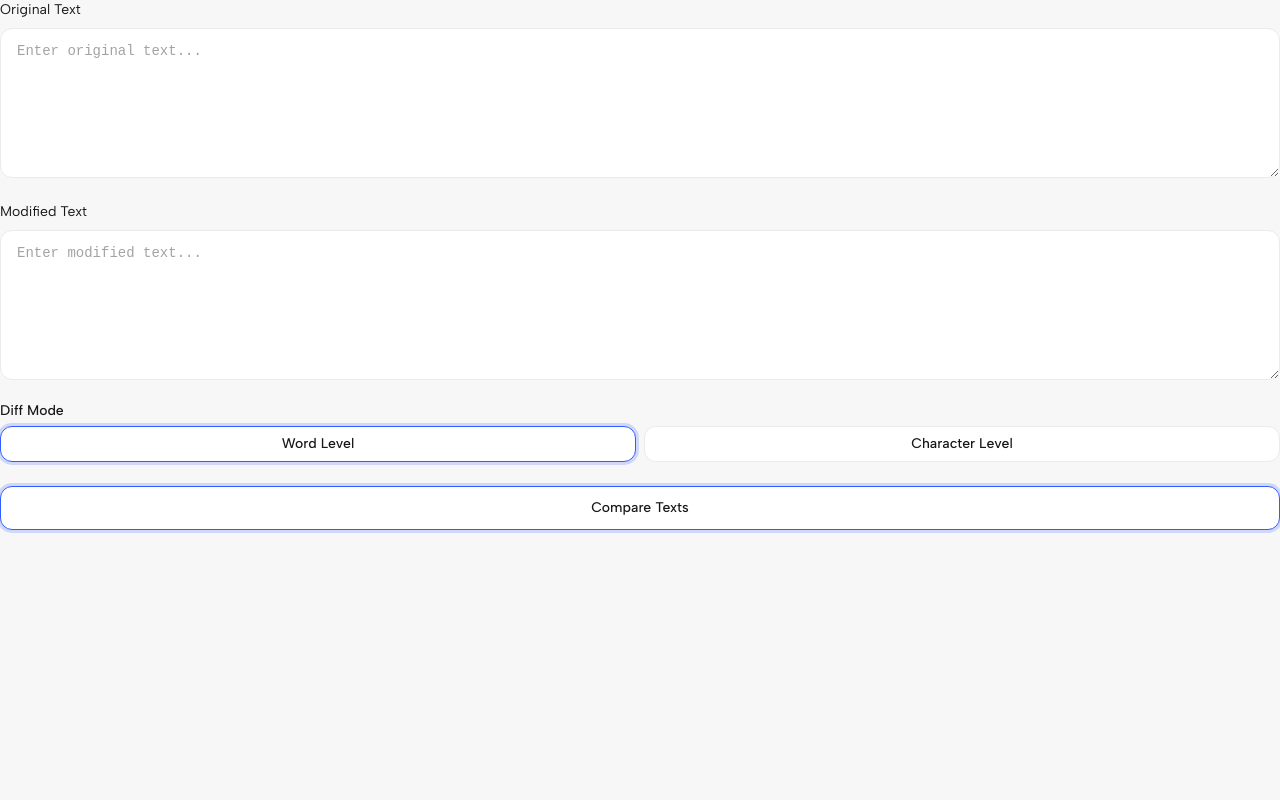
it: TextComparerTool › shows statistics after comparison
The image size is (1280, 800).
In the text box with placeholder "Enter original text...": (640, 103) [0, 28, 1279, 178], type "Hello"
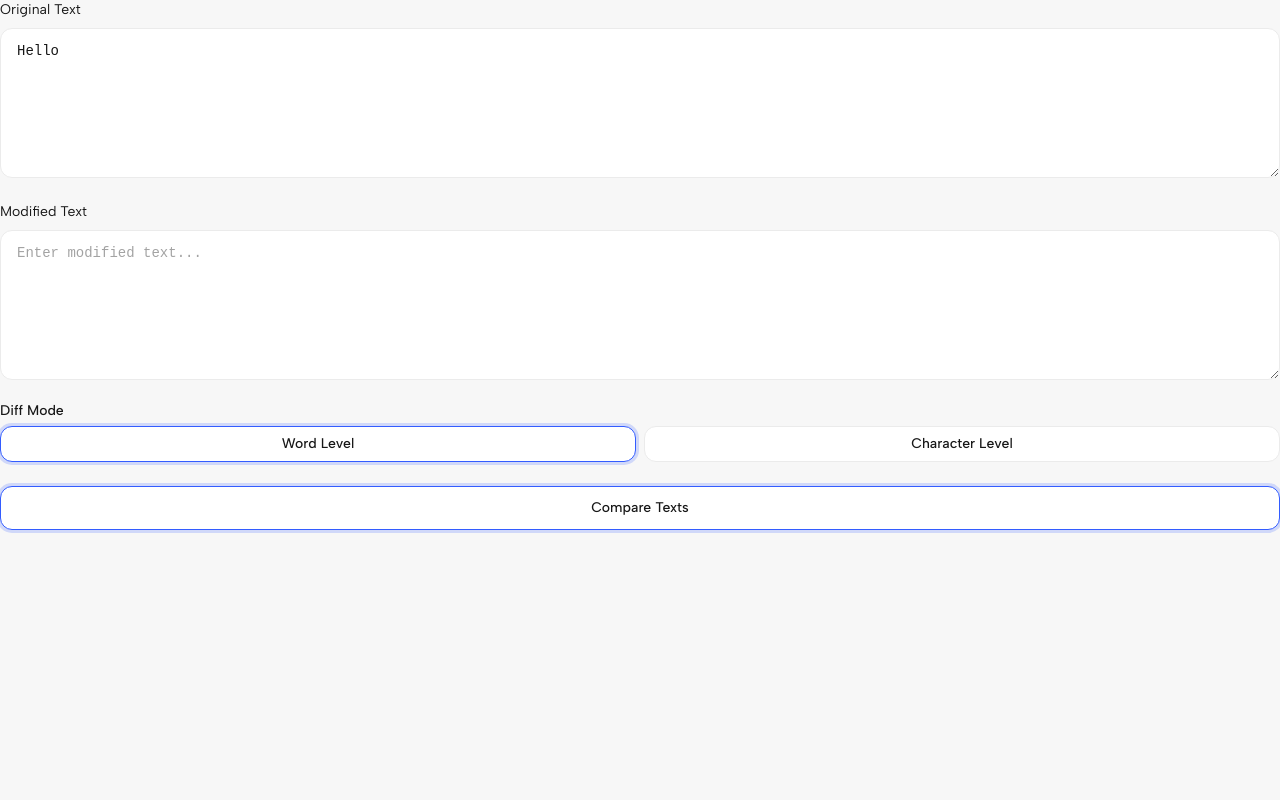
In the text box with placeholder "Enter modified text...": (640, 305) [0, 230, 1279, 380], type "Hello World"
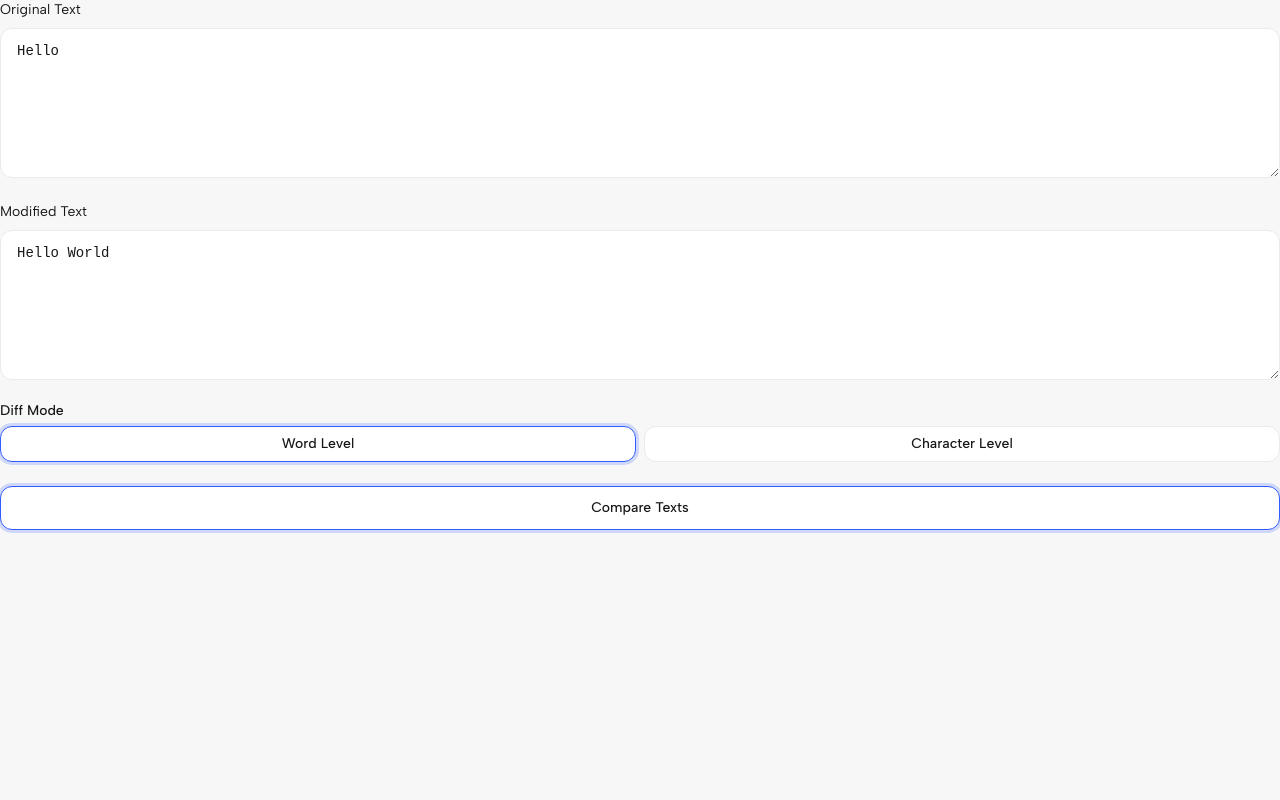
Click the button "Compare Texts": (640, 508) [0, 486, 1279, 530]
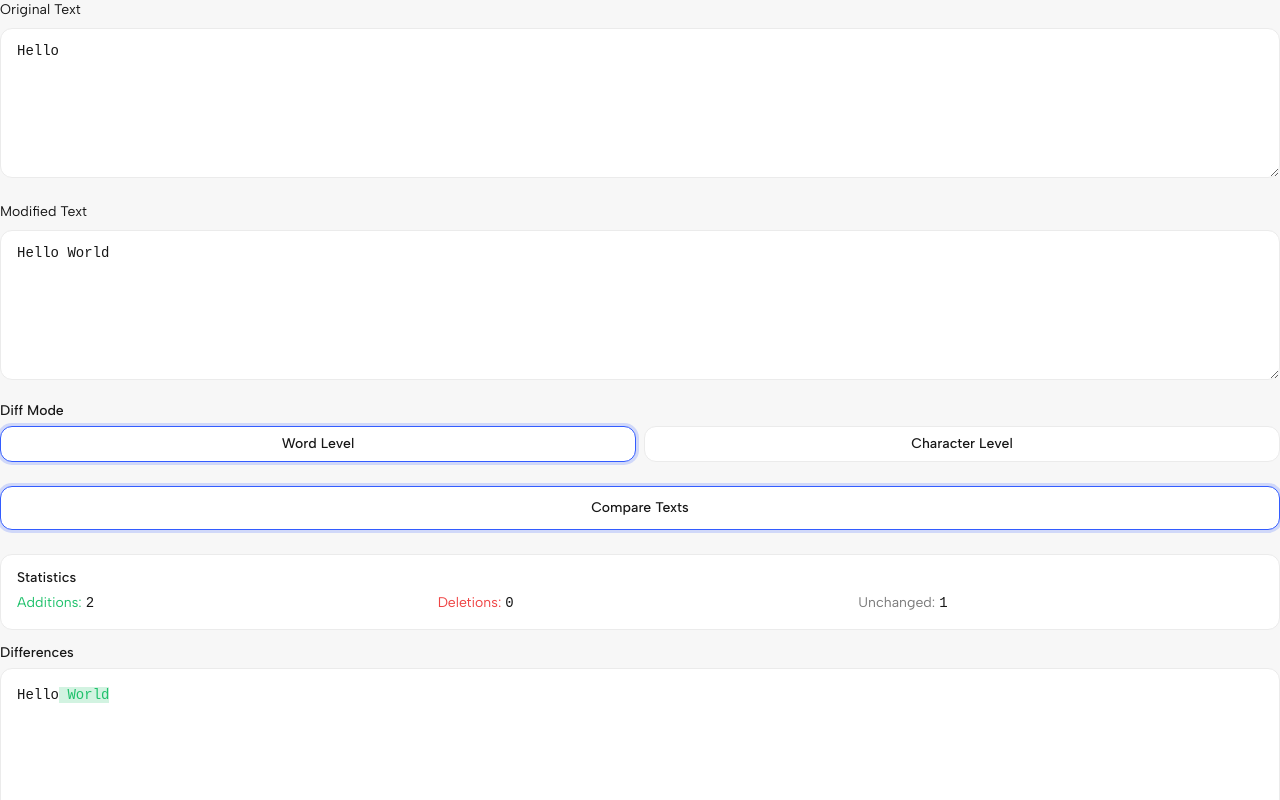
Expected: the text "Additions:" is shown, [17, 594, 82, 611]
Expected: the text "Deletions:" is shown, [438, 594, 501, 611]
Expected: the text "Unchanged:" is shown, [858, 594, 935, 611]
